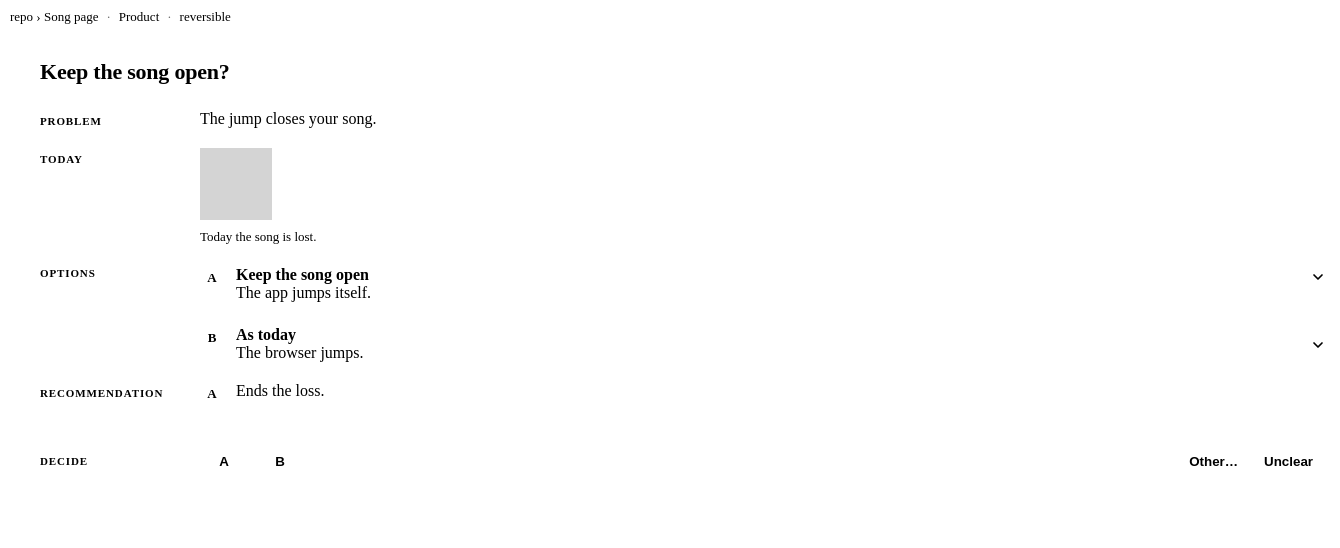
a plain failure keeps the choices usable for a retry
Click the button named "Decide A:".
click(224, 461)  # box [200, 441, 248, 481]
Wait 8000 ms
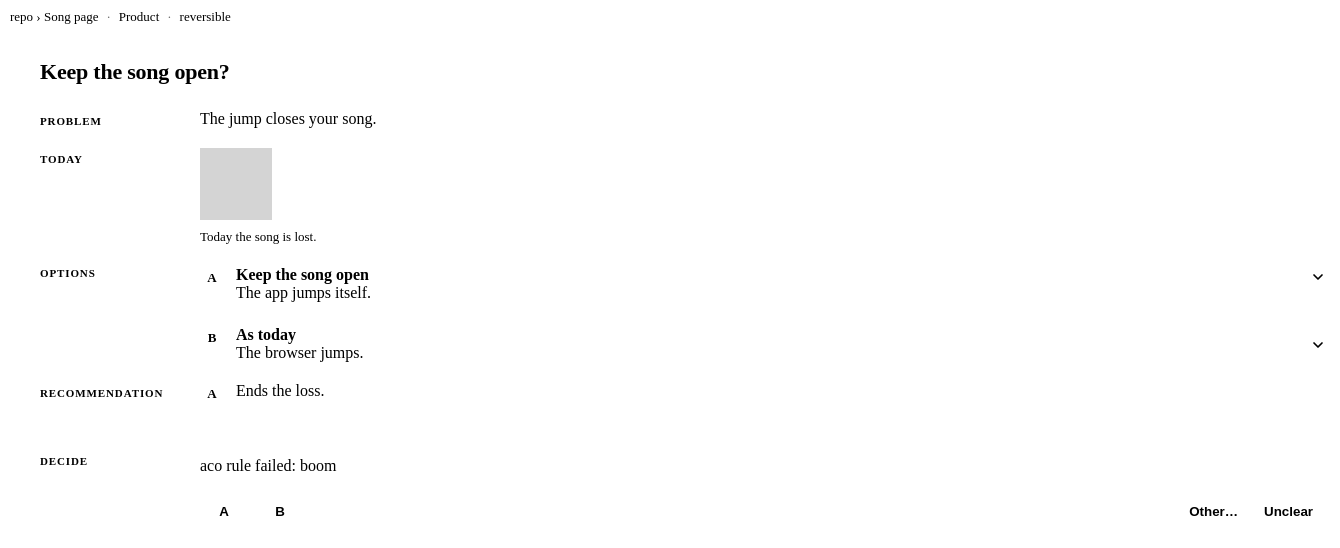
Expected: the element named "Decide" is shown, [200, 491, 304, 531]
Expected: the message reads "aco rule failed: boom", [200, 457, 336, 474]
